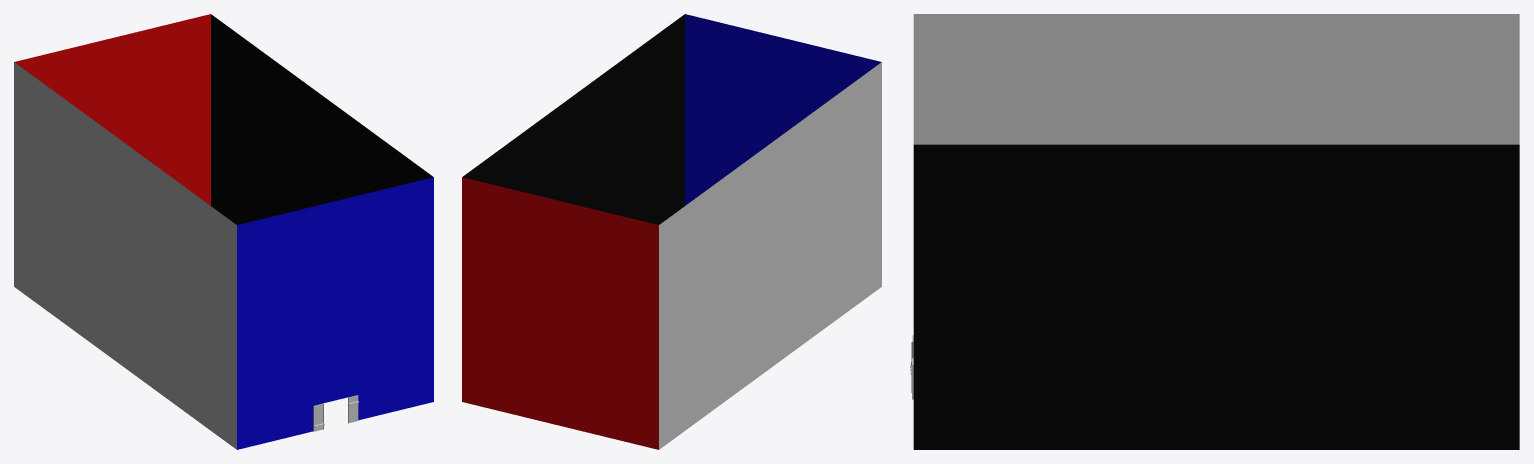
File: StartingAreaWalls2.obj
The picture shows the model from 3 angles, left to right: view 1: azimuth 30°, elevation 25°; view 2: azimuth 150°, elevation 25°; view 3: azimuth 270°, elevation 25°; orthographic projection. The views are drawn at different scales.
Parts seen in each view (by area): view 1: Plane.003_Plane.011, Plane.008, Plane.001_Plane.009, Plane.002_Plane.010; view 2: Plane.003_Plane.011, Plane.002_Plane.010, Plane.001_Plane.009, Plane.008; view 3: Plane.001_Plane.009, Plane.003_Plane.011.
Part boxes in pixels (x1,y1,x2,y2): Plane.003_Plane.011: [14, 62, 236, 449]; Plane.008: [237, 177, 433, 449]; Plane.001_Plane.009: [211, 14, 433, 224]; Plane.002_Plane.010: [14, 14, 210, 205]; Plane.003_Plane.011: [659, 62, 881, 449]; Plane.002_Plane.010: [462, 177, 658, 449]; Plane.001_Plane.009: [462, 14, 684, 224]; Plane.008: [685, 14, 881, 205]; Plane.001_Plane.009: [913, 144, 1519, 449]; Plane.003_Plane.011: [913, 14, 1519, 144].
Size of the model in its own units: 62.19 by 67.86 by 123.
